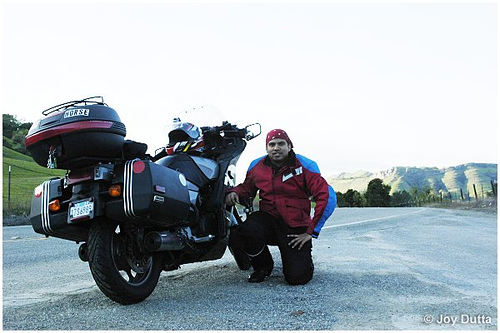without_mask: (264, 135, 293, 160)
